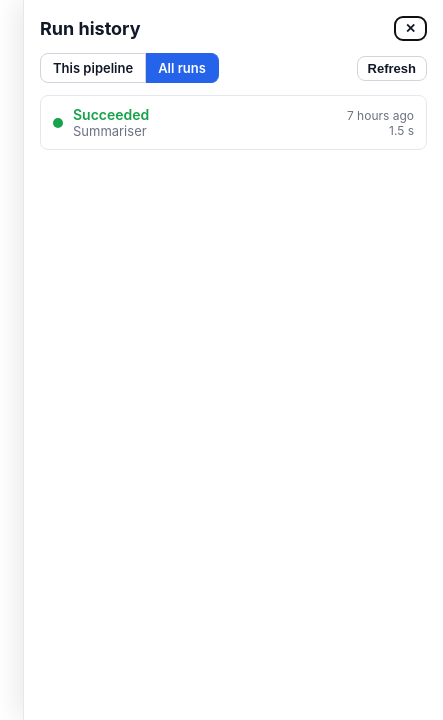
Test case: RunHistory drawer › offers to open the pipeline for runs of another pipeline
The width and height of the screenshot is (443, 720).
Expected: the text "Summariser" is shown, [73,123,147,139]
Click the button that starts with "succeeded": (111, 114) [41,96,426,149]
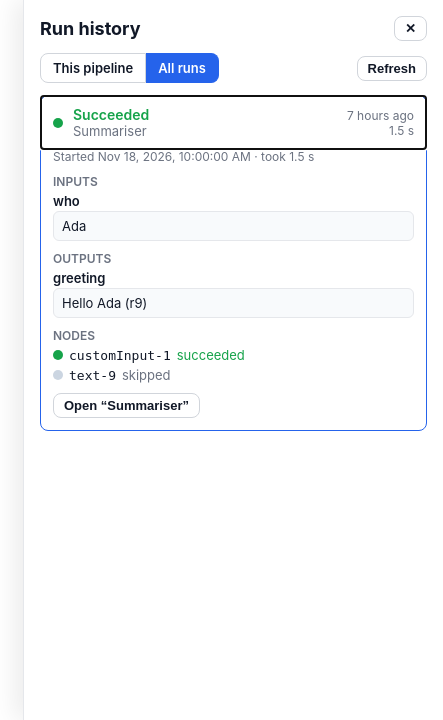
Now the button "Open “Summariser”" is shown, box [53,393,200,418]
